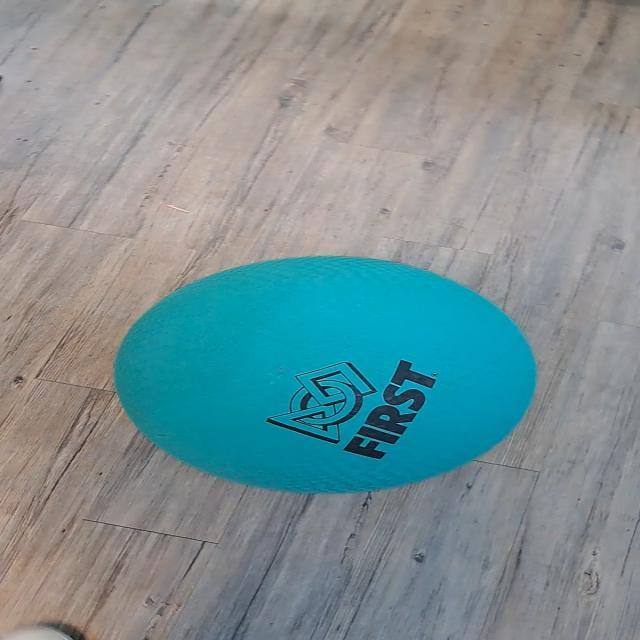ALGAE: (110, 254, 539, 494)
